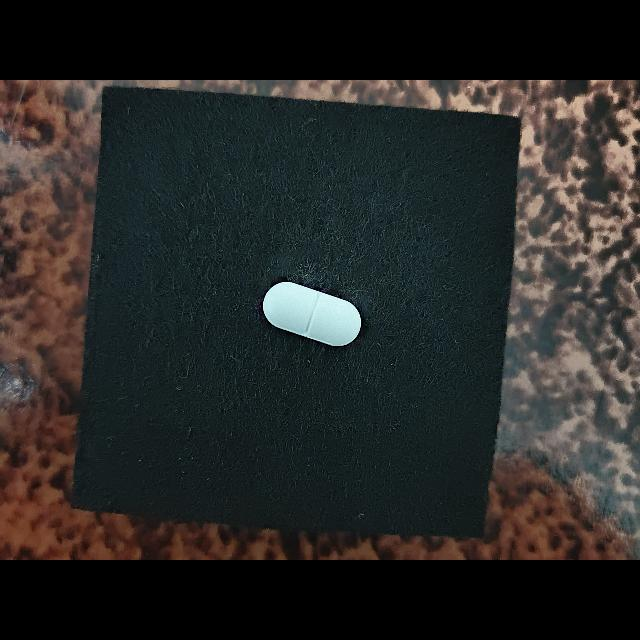Intact Pill: (263, 281, 362, 347)
